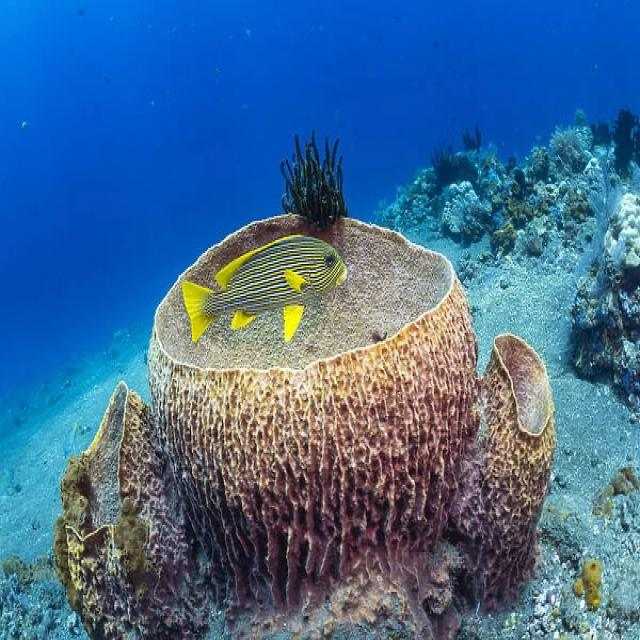RibbonedSweetlips: (180, 230, 348, 344)
